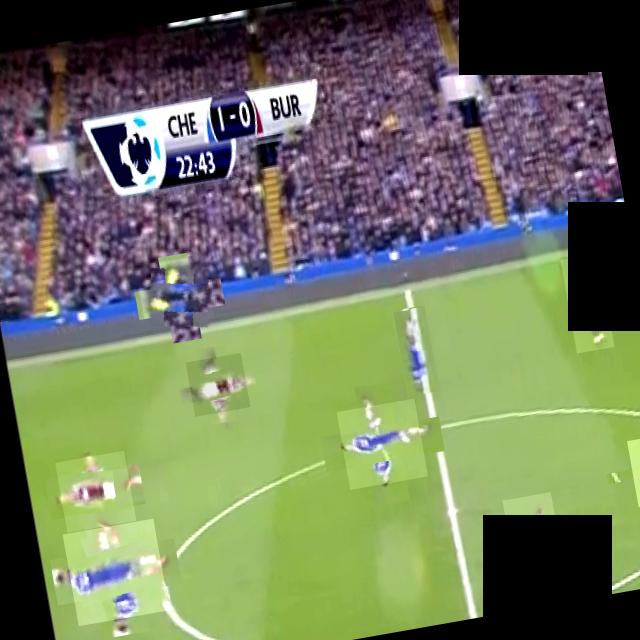referee: (142, 260, 215, 334), (625, 433, 640, 506)
soccer-player: (61, 517, 168, 625), (334, 397, 426, 489), (501, 490, 568, 610), (54, 449, 134, 532), (559, 252, 613, 352), (391, 304, 438, 395), (184, 352, 249, 416)
